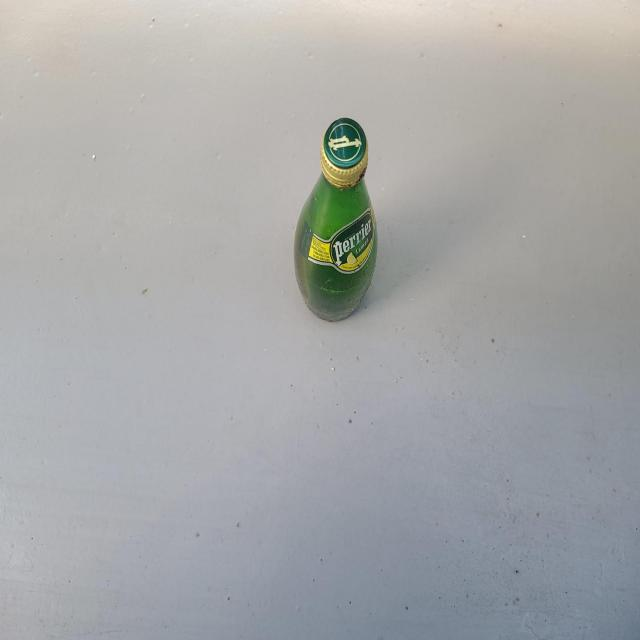glass: (294, 116, 378, 321)
